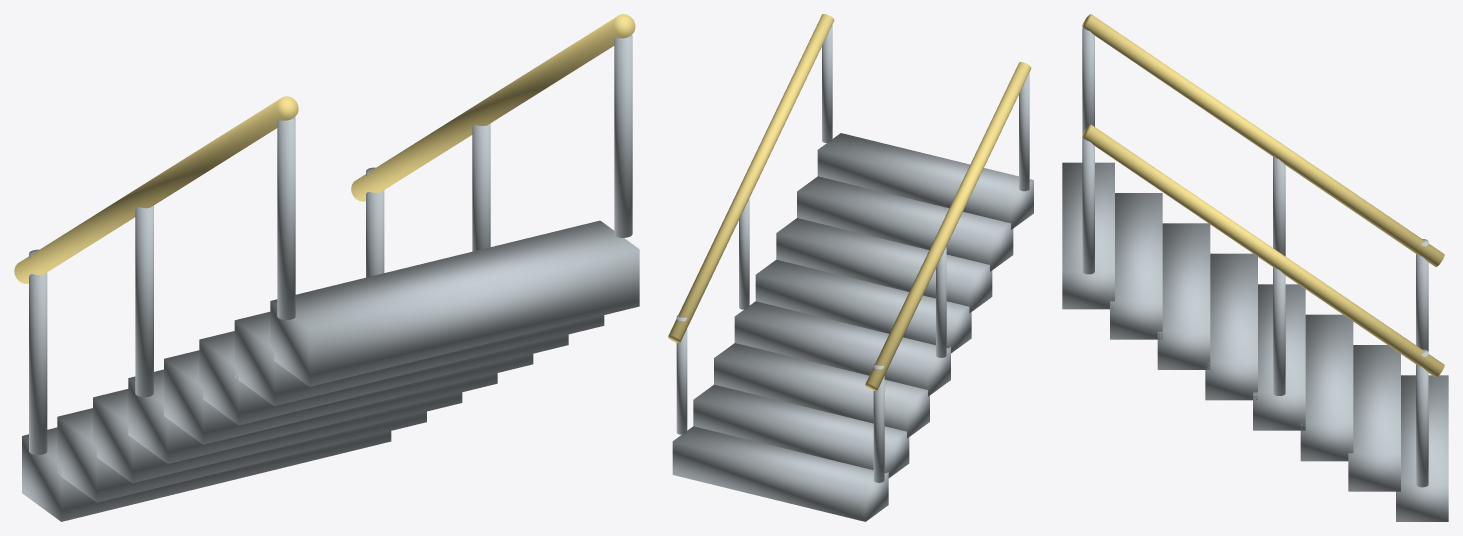
File: stairs_enhanced.glb
3 renders of one model, left to right at view 1: azimuth 30°, elevation 25°; view 2: azimuth 150°, elevation 25°; view 3: azimuth 270°, elevation 25°, orthographic. The views are drawn at different scales.
Visible parts, largest first — view 1: Steps_steel, Railing_steel, Railing_yellow; view 2: Steps_steel, Railing_yellow, Railing_steel; view 3: Steps_steel, Railing_yellow, Railing_steel.
Part boxes in pixels (x1,y1,x2,y2): Steps_steel: [22, 220, 639, 521]; Railing_steel: [29, 35, 632, 454]; Railing_yellow: [14, 14, 635, 283]; Steps_steel: [672, 133, 1033, 521]; Railing_yellow: [668, 14, 1031, 390]; Railing_steel: [676, 25, 1029, 482]; Steps_steel: [1062, 162, 1448, 521]; Railing_yellow: [1082, 14, 1444, 377]; Railing_steel: [1082, 28, 1428, 487].
Size of the model in its own units: 1.57 by 2.49 by 2.19.
